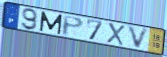7: (86, 18, 104, 42)
9: (21, 8, 39, 32)
M: (39, 10, 64, 35)
P: (62, 14, 85, 37)
V: (126, 25, 151, 51)
X: (106, 22, 126, 47)
